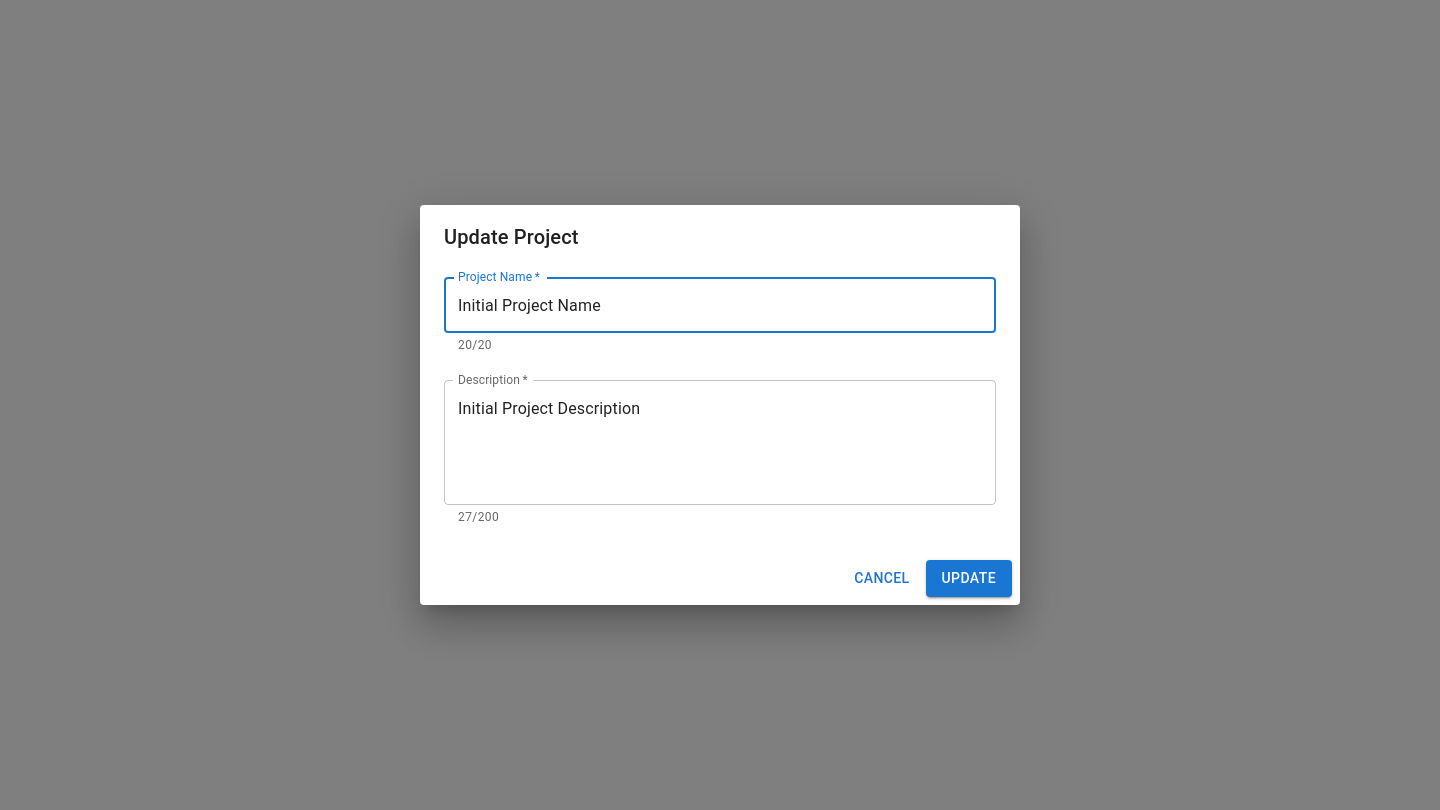
UpdateProjectDialog › should disable Update button when one field is empty
Clear the field with placeholder "Enter project name" at (720,305), box [444, 277, 996, 333]
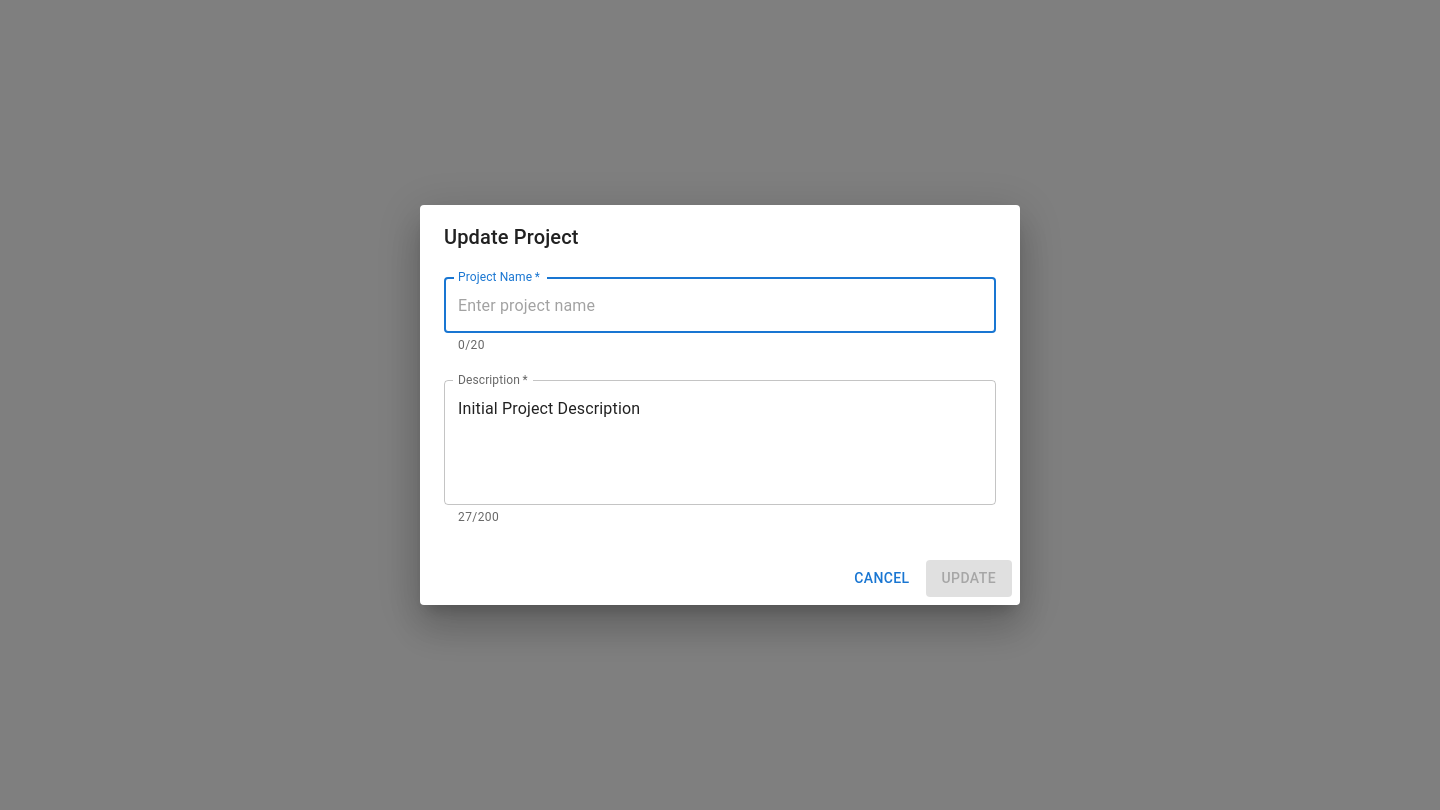
Expected: the button "Update" is disabled, [926, 560, 1012, 597]
